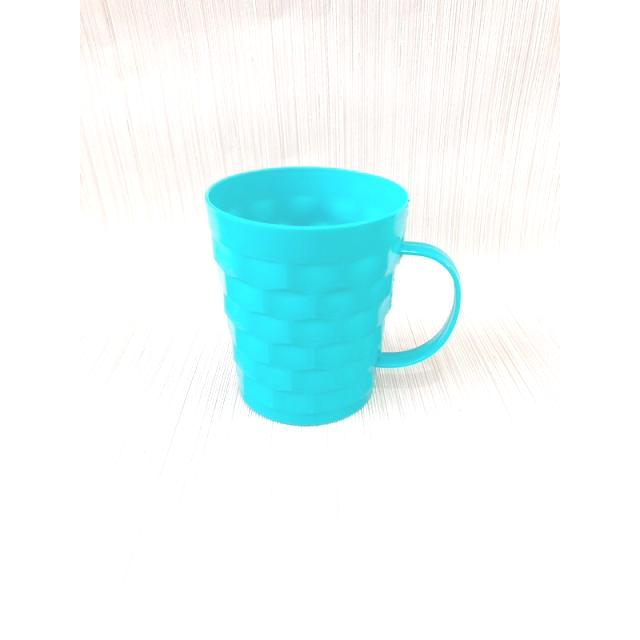Cangkir: (182, 162, 469, 434)
